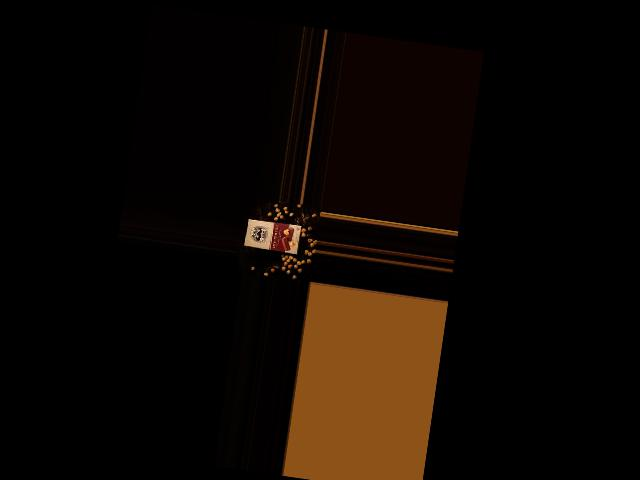chocolate: (242, 216, 303, 257)
